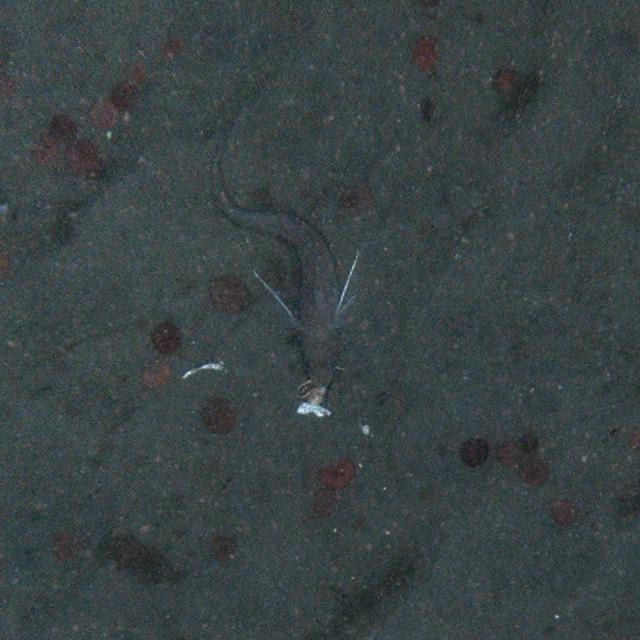roundfish: (201, 141, 361, 421)
